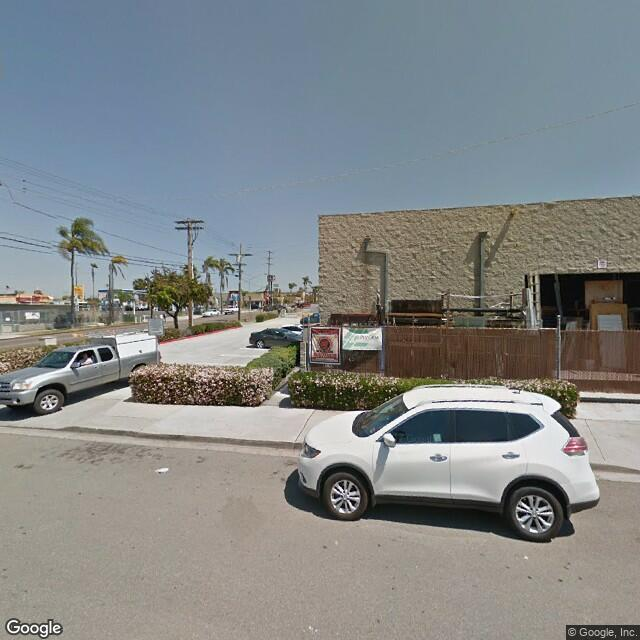litter: (147, 456, 185, 473), (512, 549, 539, 572)
